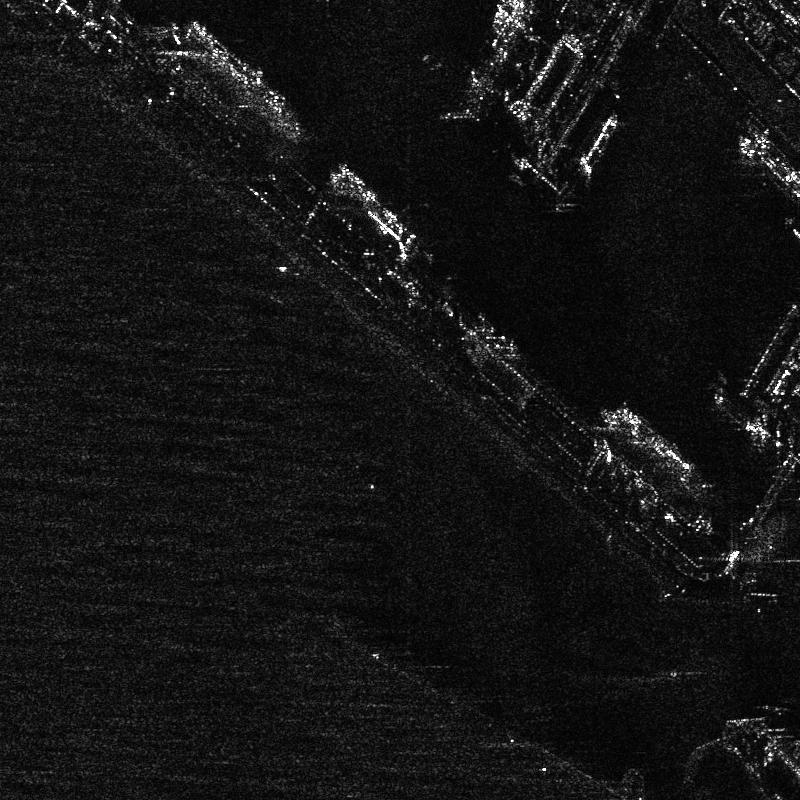ship: (184, 19, 300, 138), (331, 166, 418, 251), (616, 407, 693, 475), (752, 133, 799, 199), (581, 114, 618, 175), (491, 0, 525, 36)
